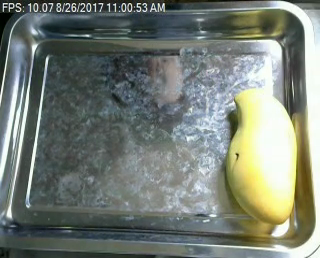Mango: (220, 86, 302, 225)
